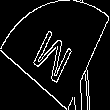M_SW: (31, 21, 79, 89)
